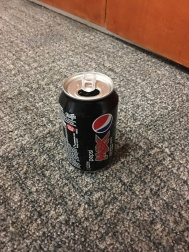can_black: (51, 64, 129, 176)
